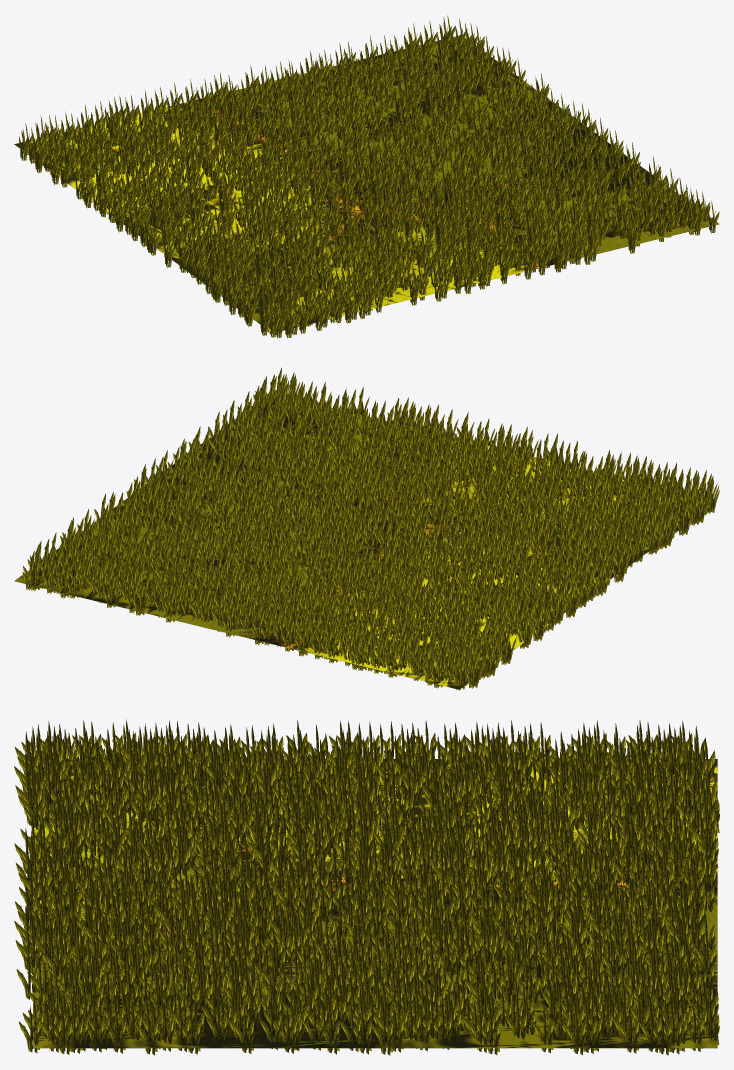
Rendered from particulas.fbx.
3 views of the same model, one above another, from view 1: azimuth 30°, elevation 25°; view 2: azimuth 150°, elevation 25°; view 3: azimuth 270°, elevation 25° (orthographic). The views are drawn at different scales.
Visible parts, largest first — view 1: Plane; view 2: Plane; view 3: Plane.
Part boxes in pixels (left/top/right/bottom): Plane: left=14, top=35, right=719, bottom=333; Plane: left=14, top=402, right=714, bottom=689; Plane: left=33, top=759, right=717, bottom=1048.
Size of the model in its own units: 9.4 by 9.3 by 0.6592.
